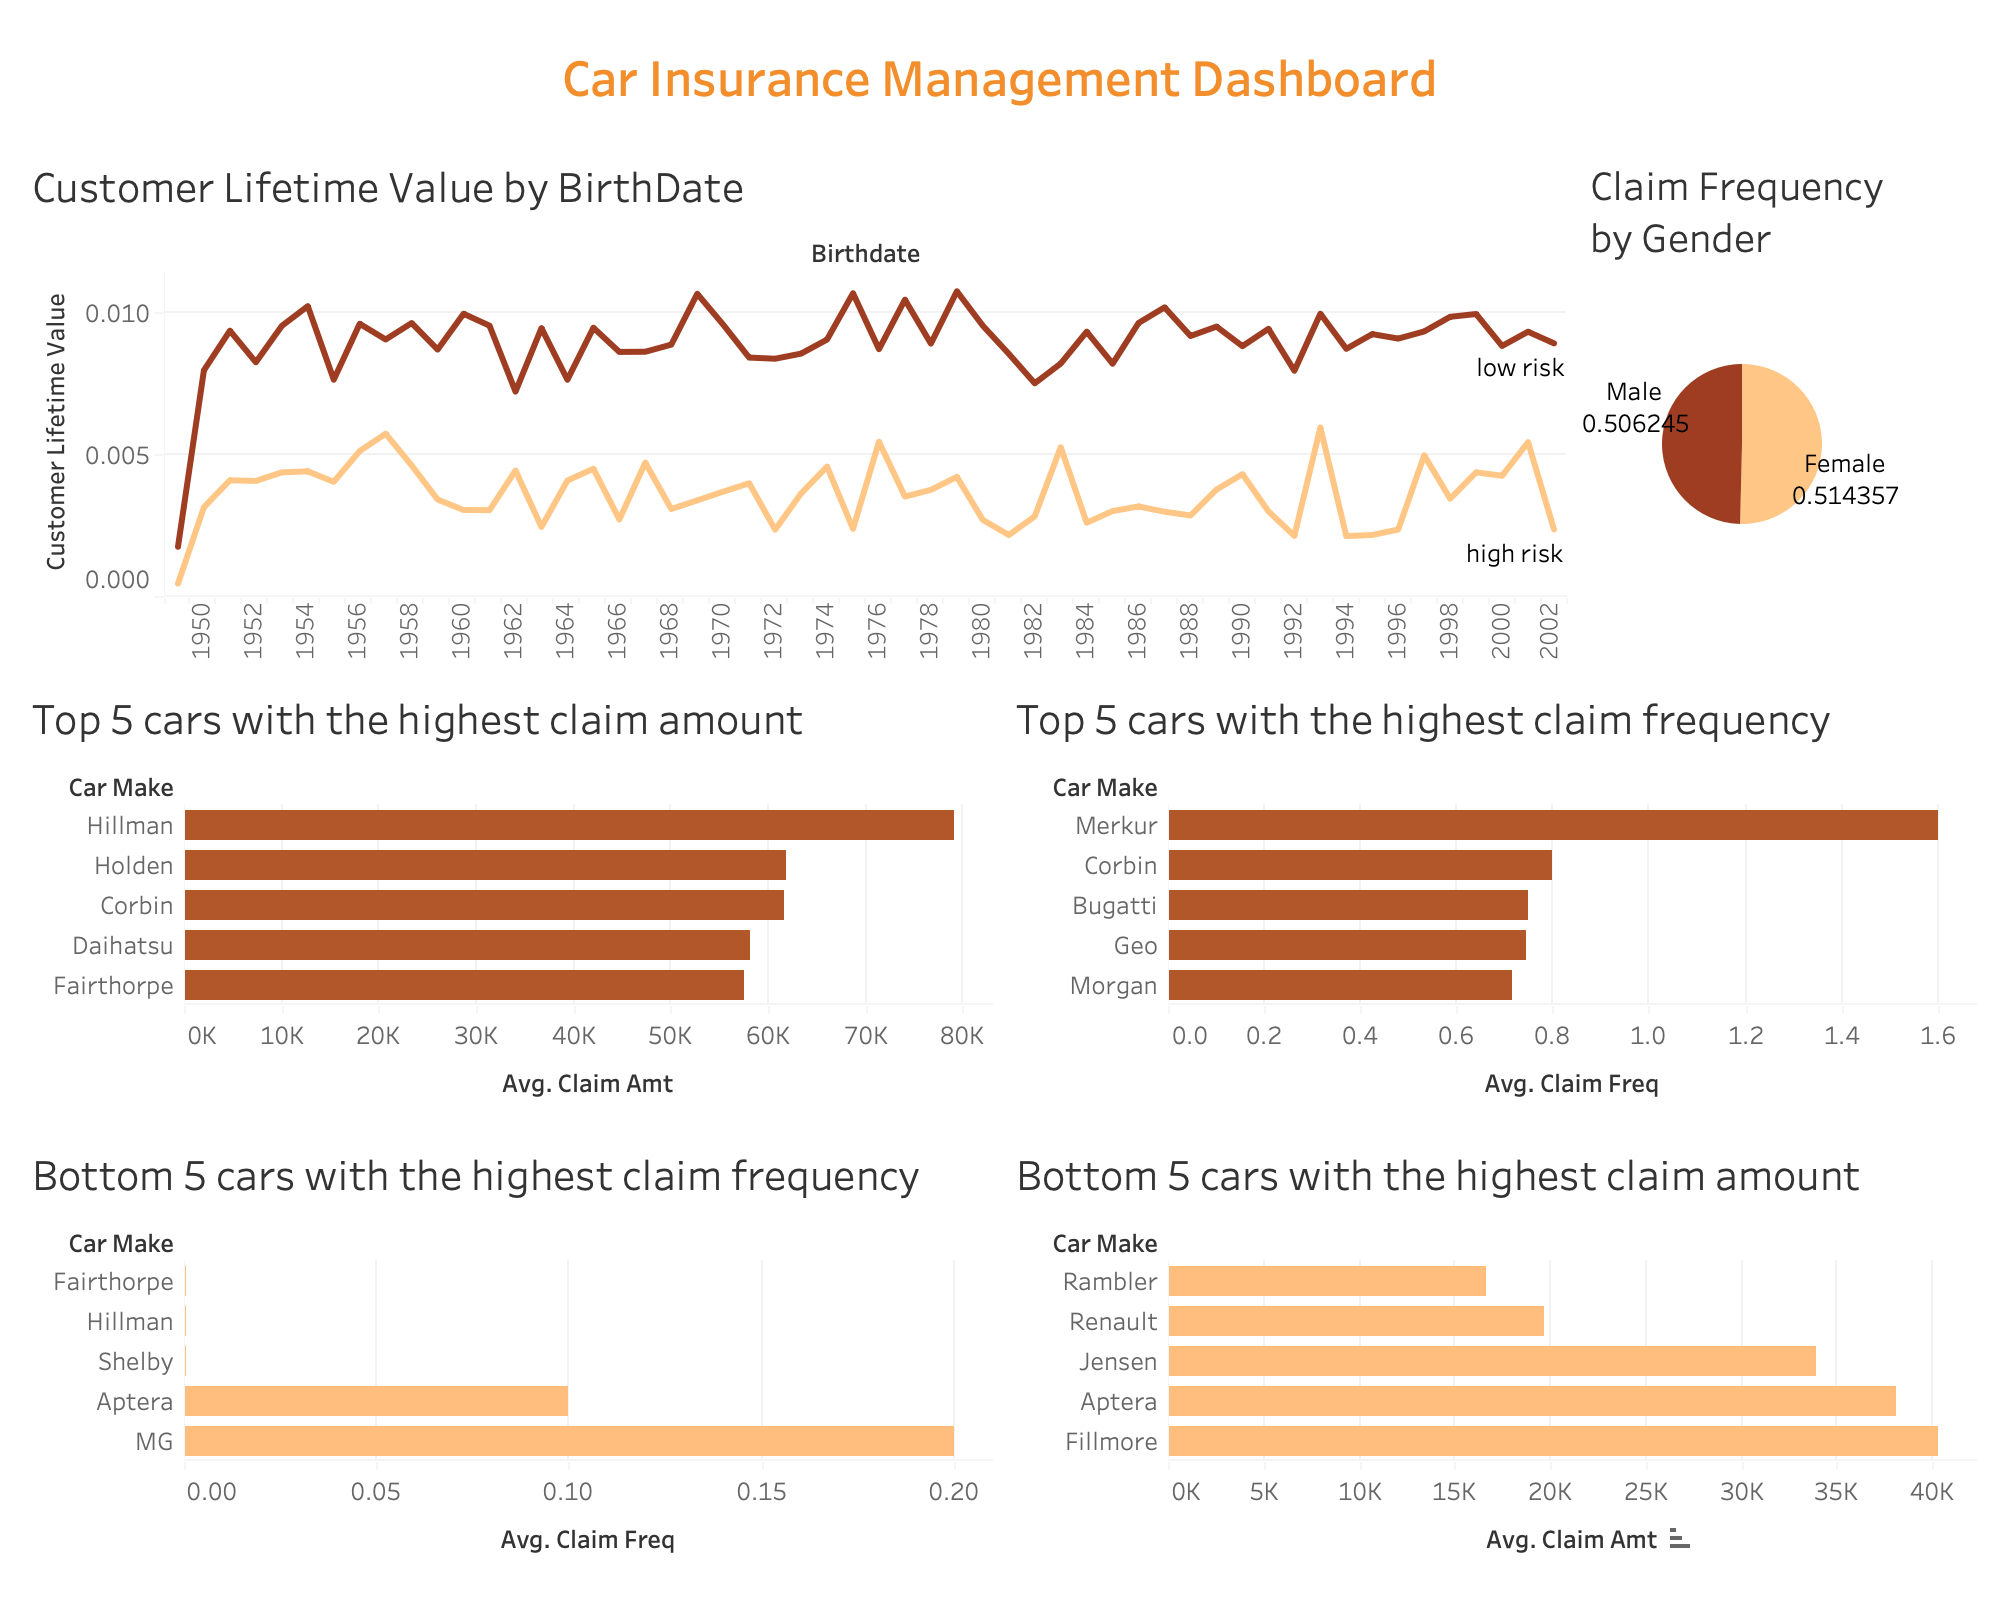

Layout of this report page (visuals, bound fields, positions):
{"tool":"tableau","page":{"name":"Dashboard 1","canvas":[1000,800],"ordinal":0},"visuals":[{"type":"text","box":[8,8,984,61]},{"type":"worksheet","title":"Sheet 4 (2)","mark":"Automatic","rows":["Calculation_76279776155033601"],"cols":["birthdate"],"box":[8,69,779,265.6]},{"type":"worksheet","title":"Sheet 8","mark":"Pie","box":[787,69,205,265.6]},{"type":"worksheet","title":"Sheet 5","mark":"Automatic","rows":["car_make"],"cols":["claim_amt"],"box":[8,334.6,492,228.7]},{"type":"worksheet","title":"Sheet 5 (3)","mark":"Automatic","rows":["car_make"],"cols":["claim_freq"],"box":[500,334.6,492,228.7]},{"type":"worksheet","title":"Sheet 5 (4)","mark":"Automatic","rows":["car_make"],"cols":["claim_freq"],"box":[8,563.3,492,228.7]},{"type":"worksheet","title":"Sheet 5 (2)","mark":"Automatic","rows":["car_make"],"cols":["claim_amt"],"box":[500,563.3,492,228.7]}]}

Visuals, with their boxes in screenshot pixels (x1, y1, x2, y2), scaled from the page's 1000x800 canvas onto the 2000x1600 screenshot:
text: Rect(16, 16, 1984, 138)
"Sheet 4 (2)" worksheet: Rect(16, 138, 1574, 669)
"Sheet 8" worksheet (Pie marks): Rect(1574, 138, 1984, 669)
"Sheet 5" worksheet: Rect(16, 669, 1000, 1127)
"Sheet 5 (3)" worksheet: Rect(1000, 669, 1984, 1127)
"Sheet 5 (4)" worksheet: Rect(16, 1127, 1000, 1584)
"Sheet 5 (2)" worksheet: Rect(1000, 1127, 1984, 1584)
